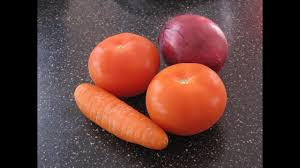onion: (159, 13, 228, 71)
tomato: (146, 62, 229, 136), (87, 33, 160, 95)
